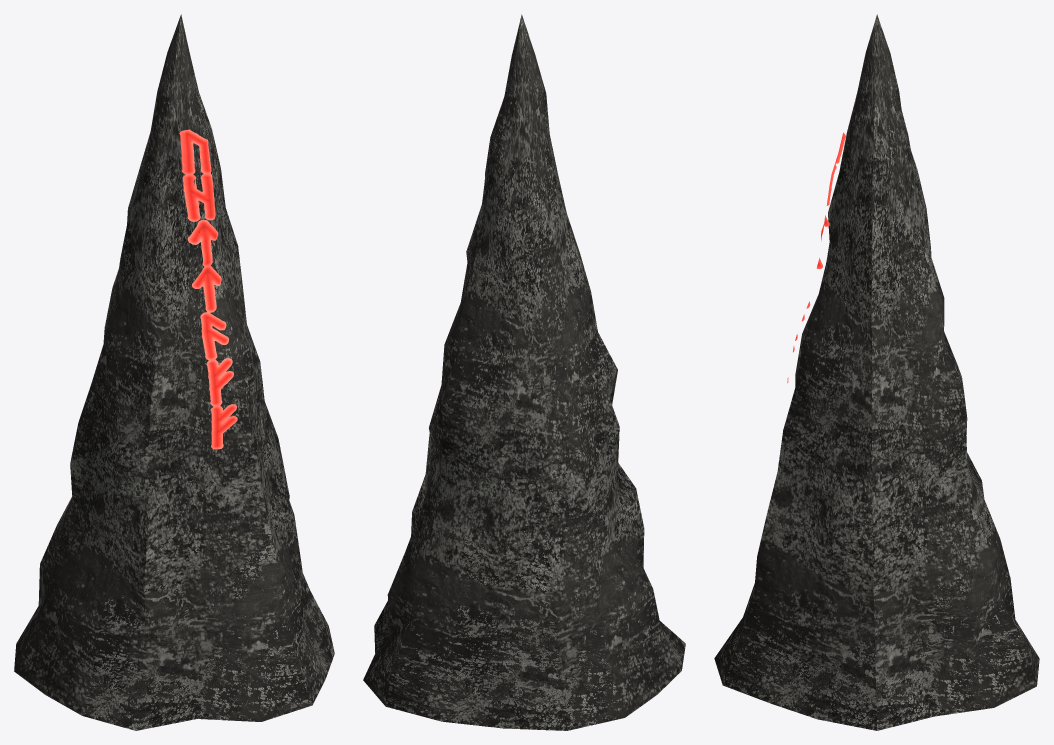
Rendered from mm8_deco_runepost14.glb.
The picture shows the model from 3 angles, left to right: view 1: azimuth 30°, elevation 25°; view 2: azimuth 150°, elevation 25°; view 3: azimuth 270°, elevation 25°; orthographic projection.
Visible parts, largest first — view 1: Runepost14; view 2: Runepost14; view 3: Runepost14.
Boxes of the visible parts, x1,y1,x2,y2 form: Runepost14: [14, 14, 334, 730]; Runepost14: [363, 14, 685, 730]; Runepost14: [714, 14, 1039, 730].
Size of the model in its own units: 1.43 by 3.12 by 1.43.
2 materials, 2 textured.
